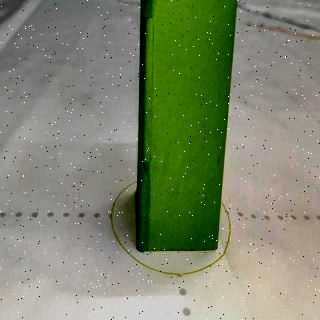greenbox: (140, 0, 237, 255)
